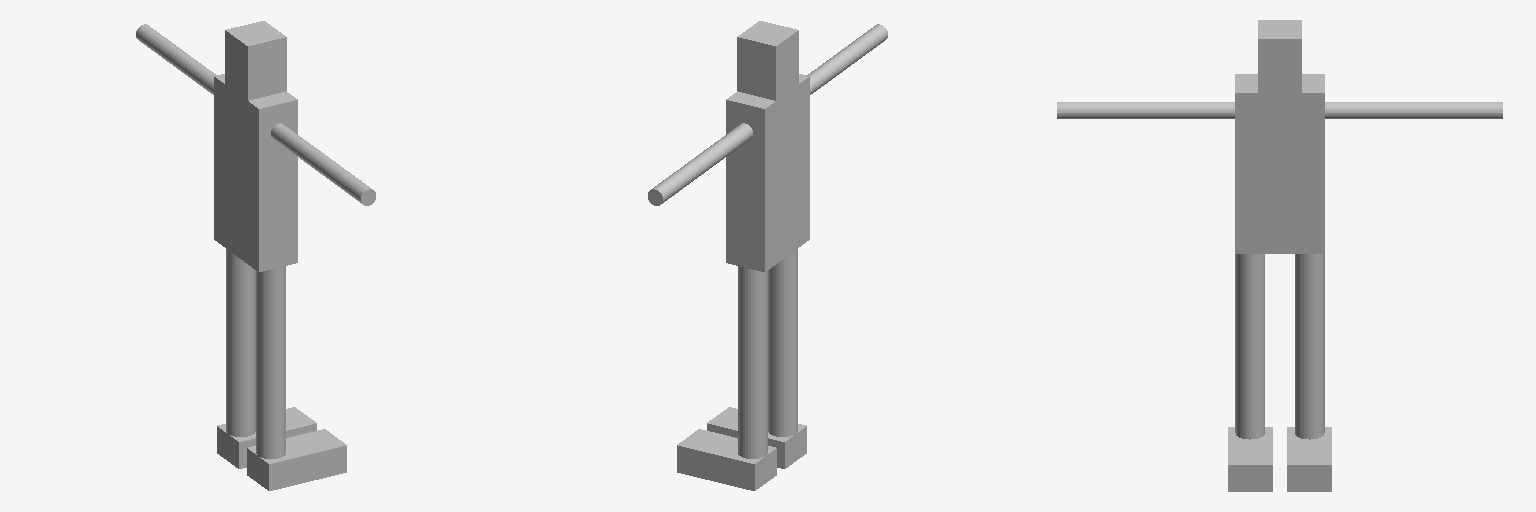
The robot description file, URDF, robot "humanoid_viz":
<?xml version="1.4"?>
<robot name="humanoid_viz">
  <material name="gray">
    <color rgba="0.8 0.8 0.8 1"/>
  </material>

  <link name="Torso_link">
    <inertial>
        <mass value="10" />
        <inertia ixx="0.375" ixy="0.0" ixz="0.0" iyy="0.31875" iyz="0.0" izz="0.09375"/>
    </inertial>
    <collision>
    <origin rpy="0.0 0.0 0.0" xyz="0.5 0.0 0.17" />
      <geometry>
        <box size="0.15 0.3 0.6" />
      </geometry>
        </collision>
    <visual>
    <origin rpy="0.0 0.0 0.0" xyz="0.5 0.0 0.17" />
      <geometry>
        <box size="0.15 0.3 0.6" />
      </geometry>
      <material name="gray"/>
    </visual>
  </link>

  <link name="Head_link">
    <inertial>
        <mass value="1" />
        <inertia ixx="0.0375" ixy="0.0" ixz="0.0" iyy="0.031875" iyz="0.0" izz="0.009375"/>
    </inertial>
    <collision>
    <origin rpy="0.0 0.0 0.0" xyz="0.0 0.0 0.1" />
      <geometry>
        <box size="0.15 0.15 0.2" />
      </geometry>
        </collision>
    <visual>
    <origin rpy="0.0 0.0 0.0" xyz="0.0 0.0 0.1" />
      <geometry>
        <box size="0.15 0.15 0.2" />
      </geometry>
      <material name="gray"/>
    </visual>
  </link>


  <link name="LeftLeg_link">
    <inertial>
        <mass value="10" />
        <inertia ixx="0.53958" ixy="0.0" ixz="0.0" iyy="0.53958" iyz="0.0" izz="0.0125"/>
    </inertial>
    <collision>
    <origin rpy="0.0 0.0 0.0" xyz="0.0 0.0 -0.35"/>
      <geometry>
        <cylinder radius="0.05" length="0.7" />
      </geometry>
    </collision>
    <visual>
    <origin rpy="0.0 0.0 0.0" xyz="0.0 0.0 -0.35" />
      <geometry>
        <cylinder radius="0.05" length="0.7" />
      </geometry>
      <material name="gray"/>
    </visual>
  </link>

  <link name="LeftFoot_link">
    <inertial>
        <mass value="100" />
        <inertia ixx="0.2708" ixy="0.0" ixz="0.0" iyy="0.8333" iyz="0.0" izz="0.9375"/>
    </inertial>
    <collision>
    <origin rpy="0.0 0.0 0.0" xyz="0.1 0.0 -0.05"/>
      <geometry>
        <box size="0.3 0.15 0.1" />
      </geometry>
    </collision>
    <visual>
    <origin rpy="0.0 0.0 0.0" xyz="0.1 0.0 -0.05"/>
      <geometry>
        <box size="0.3 0.15 0.1" />
      </geometry>
      <material name="gray"/>
    </visual>
  </link>

  <link name="RightLeg_link">
    <inertial>
        <mass value="10" />
        <inertia ixx="0.53958" ixy="0.0" ixz="0.0" iyy="0.53958" iyz="0.0" izz="0.0125"/>
    </inertial>
    <collision>
    <origin rpy="0.0 0.0 0.0" xyz="0.0 -0.0 -0.35" />
      <geometry>
        <cylinder radius="0.05" length="0.7" />
      </geometry>
    </collision>
    <visual>
    <origin rpy="0.0 0.0 0.0" xyz="0.0 -0.0 -0.35" />
      <geometry>
        <cylinder radius="0.05" length="0.7" />
      </geometry>
      <material name="gray"/>
    </visual>
  </link>

  <link name="RightFoot_link">
    <inertial>
        <mass value="100" />
        <inertia ixx="0.2708" ixy="0.0" ixz="0.0" iyy="0.8333" iyz="0.0" izz="0.9375"/>
    </inertial>
    <collision>
    <origin rpy="0.0 0.0 0.0" xyz="0.1 0.0 -0.05"/>
      <geometry>
        <box size="0.3 0.15 0.1" />
      </geometry>
    </collision>
    <visual>
    <origin rpy="0.0 0.0 0.0" xyz="0.1 0.0 -0.05"/>
      <geometry>
        <box size="0.3 0.15 0.1" />
      </geometry>
      <material name="gray"/>
    </visual>
  </link>

  <link name="LeftUpperArm_link">
    <inertial>
        <mass value="1" />
        <inertia ixx="0.007725" ixy="0.0" ixz="0.0" iyy="0.007725" iyz="0.0" izz="0.00045"/>
    </inertial>
    <collision>
    <origin rpy="1.5708 0.0 0.0" xyz="0.0 0.15 0.0" />
      <geometry>
        <cylinder radius="0.03" length="0.3" />
      </geometry>
    </collision>
    <visual>
    <origin rpy="1.5708 0.0 0.0" xyz="0.0 0.15 0.0" />
      <geometry>
        <cylinder radius="0.03" length="0.3" />
      </geometry>
      <material name="gray"/>
    </visual>
  </link>

  <link name="LeftForeArm_link">
    <inertial>
        <mass value="1" />
        <inertia ixx="0.007725" ixy="0.0" ixz="0.0" iyy="0.007725" iyz="0.0" izz="0.00045"/>
    </inertial>
    <collision>
    <origin rpy="1.5708 0.0 0.0" xyz="0.0 0.15 0.0" />
      <geometry>
        <cylinder radius="0.03" length="0.3" />
      </geometry>
    </collision>
    <visual>
    <origin rpy="1.5708 0.0 0.0" xyz="0.0 0.15 0.0" />
      <geometry>
        <cylinder radius="0.03" length="0.3" />
      </geometry>
      <material name="gray"/>
    </visual>
  </link>

  <link name="RightUpperArm_link">
    <inertial>
        <mass value="1" />
        <inertia ixx="0.007725" ixy="0.0" ixz="0.0" iyy="0.007725" iyz="0.0" izz="0.00045"/>
    </inertial>
    <collision>
    <origin rpy="1.5708 0.0 0.0" xyz="0.0 -0.15 0.0" />
      <geometry>
        <cylinder radius="0.03" length="0.3" />
      </geometry>
    </collision>
    <visual>
    <origin rpy="1.5708 0.0 0.0" xyz="0.0 -0.15 0.0" />
      <geometry>
        <cylinder radius="0.03" length="0.3" />
      </geometry>
      <material name="gray"/>
    </visual>
  </link>

  <link name="RightForeArm_link">
    <inertial>
        <mass value="1" />
        <inertia ixx="0.007725" ixy="0.0" ixz="0.0" iyy="0.007725" iyz="0.0" izz="0.00045"/>
    </inertial>
    <collision>
    <origin rpy="1.5708 0.0 0.0" xyz="0.0 -0.15 0.0" />
      <geometry>
        <cylinder radius="0.03" length="0.3" />
      </geometry>
    </collision>
    <visual>
    <origin rpy="1.5708 0.0 0.0" xyz="0.0 -0.15 0.0" />
      <geometry>
        <cylinder radius="0.03" length="0.3" />
      </geometry>
      <material name="gray"/>
    </visual>
  </link>

  <!-- <joint name="base_to_second_joint" type="continuous">
    <parent link="base_link"/>
    <child link="second_link"/>
    <axis xyz="1 0 0"/>
    <origin xyz="0.0 0.0 0.2" rpy="0.0 0.0 0.0"/> 
  </joint> -->



  <joint name="LeftLeg_joint" type="prismatic">
  <origin xyz="0.5 0.1 -0.13" rpy="0.0 0.0 0.0"/> 
    <parent link="Torso_link"/>
    <child link="LeftLeg_link"/>
    <axis xyz="0 0 1"/>
    <limit effort="30000" velocity="100.0" lower="-0.0" upper="0.0" />
    <dnamics damping="0.0" friction="0.0" />
  </joint>

  <joint name="RightLeg_joint" type="prismatic">
  <origin xyz="0.5 -0.1 -0.13" rpy="0.0 0.0 0.0"/> 
    <parent link="Torso_link"/>
    <child link="RightLeg_link"/>
    <axis xyz="0 0 1"/>
    <limit effort="30000" velocity="100.0" lower="-0.0" upper="0.0" />
    <dnamics damping="0.0" friction="0.0" />
    <mimic joint="LeftLeg_joint" multiplier="1" offset="0"/>
  </joint>

  <joint name="LeftUpperArm_joint" type="revolute">
  <origin xyz="0.5 0.15 0.37" rpy="0.0 0.0 0.0"/> 
    <parent link="Torso_link"/>
    <child link="LeftUpperArm_link"/>
    <axis xyz="1 0 0"/>
    <limit effort="30" velocity="1.0" lower="-0.0" upper="0.0" />
    <dynamics damping="10.0" friction="0.0"/>
  </joint>

  <joint name="LeftForeArm_joint" type="revolute">
  <origin xyz="0.0 0.3 0.0" rpy="0.0 0.0 0.0"/> 
    <parent link="LeftUpperArm_link"/>
    <child link="LeftForeArm_link"/>
    <axis xyz="1 0 0"/>
    <limit effort="30" velocity="1.0" lower="-0.0" upper="0.0" />
  </joint>

  <joint name="RightUpperArm_joint" type="revolute" >
  <origin xyz="0.5 -0.15 0.37" rpy="0.0 0.0 0.0"/> 
    <parent link="Torso_link"/>
    <child link="RightUpperArm_link"/>
    <axis xyz="1 0 0"/>
    <limit effort="30" velocity="1.0" lower="-0.0" upper="0.0" />
    <dynamics damping="10.0" friction="0.0"/>
  </joint>

  <joint name="RightForeArm_joint" type="revolute" >
  <origin xyz="0.0 -0.3 0.0" rpy="0.0 0.0 0.0"/> 
    <parent link="RightUpperArm_link"/>
    <child link="RightForeArm_link"/>
    <axis xyz="1 0 0"/>
    <limit effort="30" velocity="1.0" lower="-0.0" upper="0.0" />
  </joint>

  <joint name="Head_joint" type="fixed">
  <origin xyz="0.5 0.0 0.47" rpy="0.0 0.0 0.0"/> 
    <parent link="Torso_link"/>
    <child link="Head_link"/>
    <axis xyz="0 0 1"/>
  </joint>

  <joint name="LeftFoot_joint" type="fixed">
  <origin xyz="0.0 0.0 -0.7" rpy="0.0 0.0 0.0"/> 
    <parent link="LeftLeg_link"/>
    <child link="LeftFoot_link"/>
    <axis xyz="0 0 1"/>
  </joint>

  <joint name="RightFoot_joint" type="fixed">
  <origin xyz="0.0 0.0 -0.7" rpy="0.0 0.0 0.0"/> 
    <parent link="RightLeg_link"/>
    <child link="RightFoot_link"/>
    <axis xyz="0 0 1"/>
  </joint>


</robot>

--- Render facts (derived) ---
Views: 3 orthographic renders of the robot side by side, from view 1: azimuth 30°, elevation 25°; view 2: azimuth 150°, elevation 25°; view 3: azimuth 270°, elevation 25°.
Model humanoid_viz with 10 links and 9 joints (4 revolute, 2 prismatic, 3 fixed), rooted at Torso_link, posed every joint at zero.
Visible links, largest first — view 1: Torso_link, RightLeg_link, LeftLeg_link, Head_link, RightFoot_link, LeftFoot_link, RightForeArm_link, LeftForeArm_link, RightUpperArm_link, LeftUpperArm_link; view 2: Torso_link, LeftLeg_link, RightLeg_link, Head_link, LeftFoot_link, RightFoot_link, LeftForeArm_link, LeftUpperArm_link, RightForeArm_link, RightUpperArm_link; view 3: Torso_link, LeftLeg_link, RightLeg_link, Head_link, LeftFoot_link, RightFoot_link, LeftUpperArm_link, LeftForeArm_link, RightUpperArm_link, RightForeArm_link.
Boxes of the visible links, x1,y1,x2,y2 form: Torso_link: [214, 74, 297, 271]; RightLeg_link: [256, 266, 285, 458]; LeftLeg_link: [226, 249, 255, 436]; Head_link: [225, 21, 286, 100]; RightFoot_link: [247, 429, 346, 490]; LeftFoot_link: [217, 407, 316, 468]; RightForeArm_link: [316, 156, 375, 205]; LeftForeArm_link: [136, 24, 190, 72]; RightUpperArm_link: [271, 123, 327, 170]; LeftUpperArm_link: [181, 57, 216, 94]; Torso_link: [726, 74, 809, 271]; LeftLeg_link: [738, 266, 767, 458]; RightLeg_link: [768, 249, 797, 436]; Head_link: [737, 21, 798, 100]; LeftFoot_link: [677, 429, 776, 490]; RightFoot_link: [707, 407, 806, 468]; LeftForeArm_link: [648, 156, 707, 205]; LeftUpperArm_link: [696, 123, 752, 170]; RightForeArm_link: [833, 24, 887, 72]; RightUpperArm_link: [807, 57, 842, 94]; Torso_link: [1235, 74, 1324, 253]; LeftLeg_link: [1295, 254, 1324, 439]; RightLeg_link: [1235, 254, 1264, 439]; Head_link: [1258, 20, 1301, 92]; LeftFoot_link: [1287, 427, 1331, 491]; RightFoot_link: [1228, 427, 1272, 491]; LeftUpperArm_link: [1325, 102, 1413, 118]; LeftForeArm_link: [1414, 102, 1502, 118]; RightUpperArm_link: [1146, 102, 1234, 118]; RightForeArm_link: [1057, 102, 1145, 118].
Size in the robot's own frame: 0.325 by 1.5 by 1.6 metres.
Geometry: primitives only (box / cylinder / sphere), no mesh files.